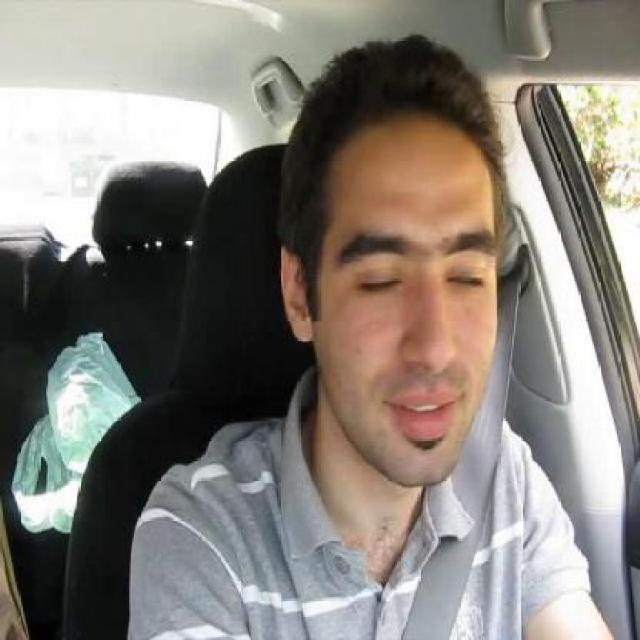drowsy: (358, 268, 400, 304), (444, 266, 484, 302)
